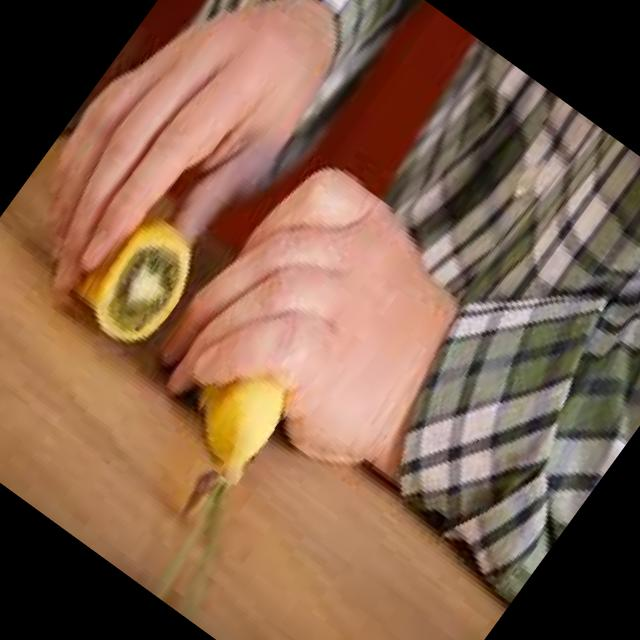Organic: (66, 202, 214, 358), (170, 328, 314, 486)
